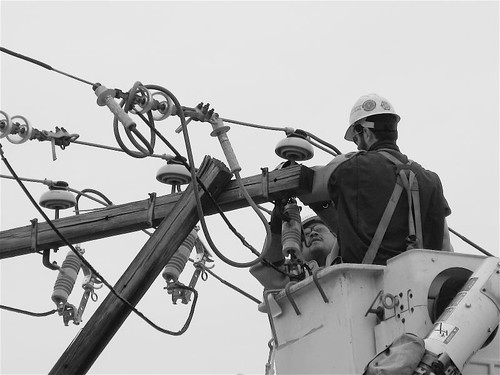person hardhat: (284, 89, 465, 277)
